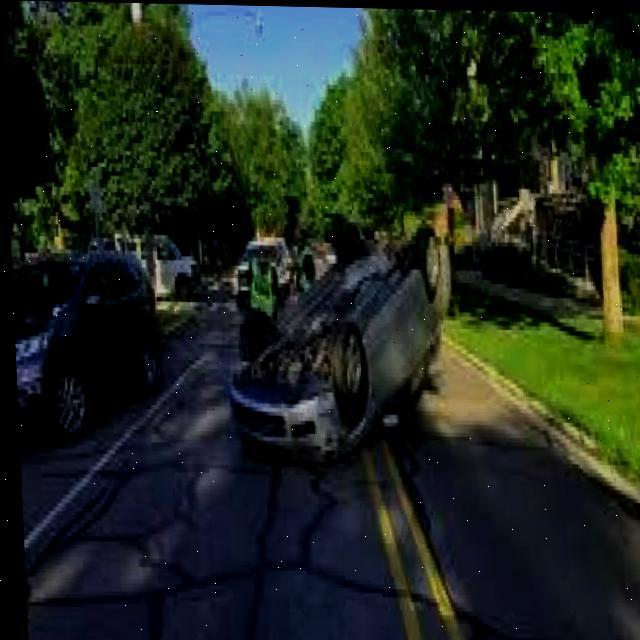single accident: (215, 210, 458, 493)
